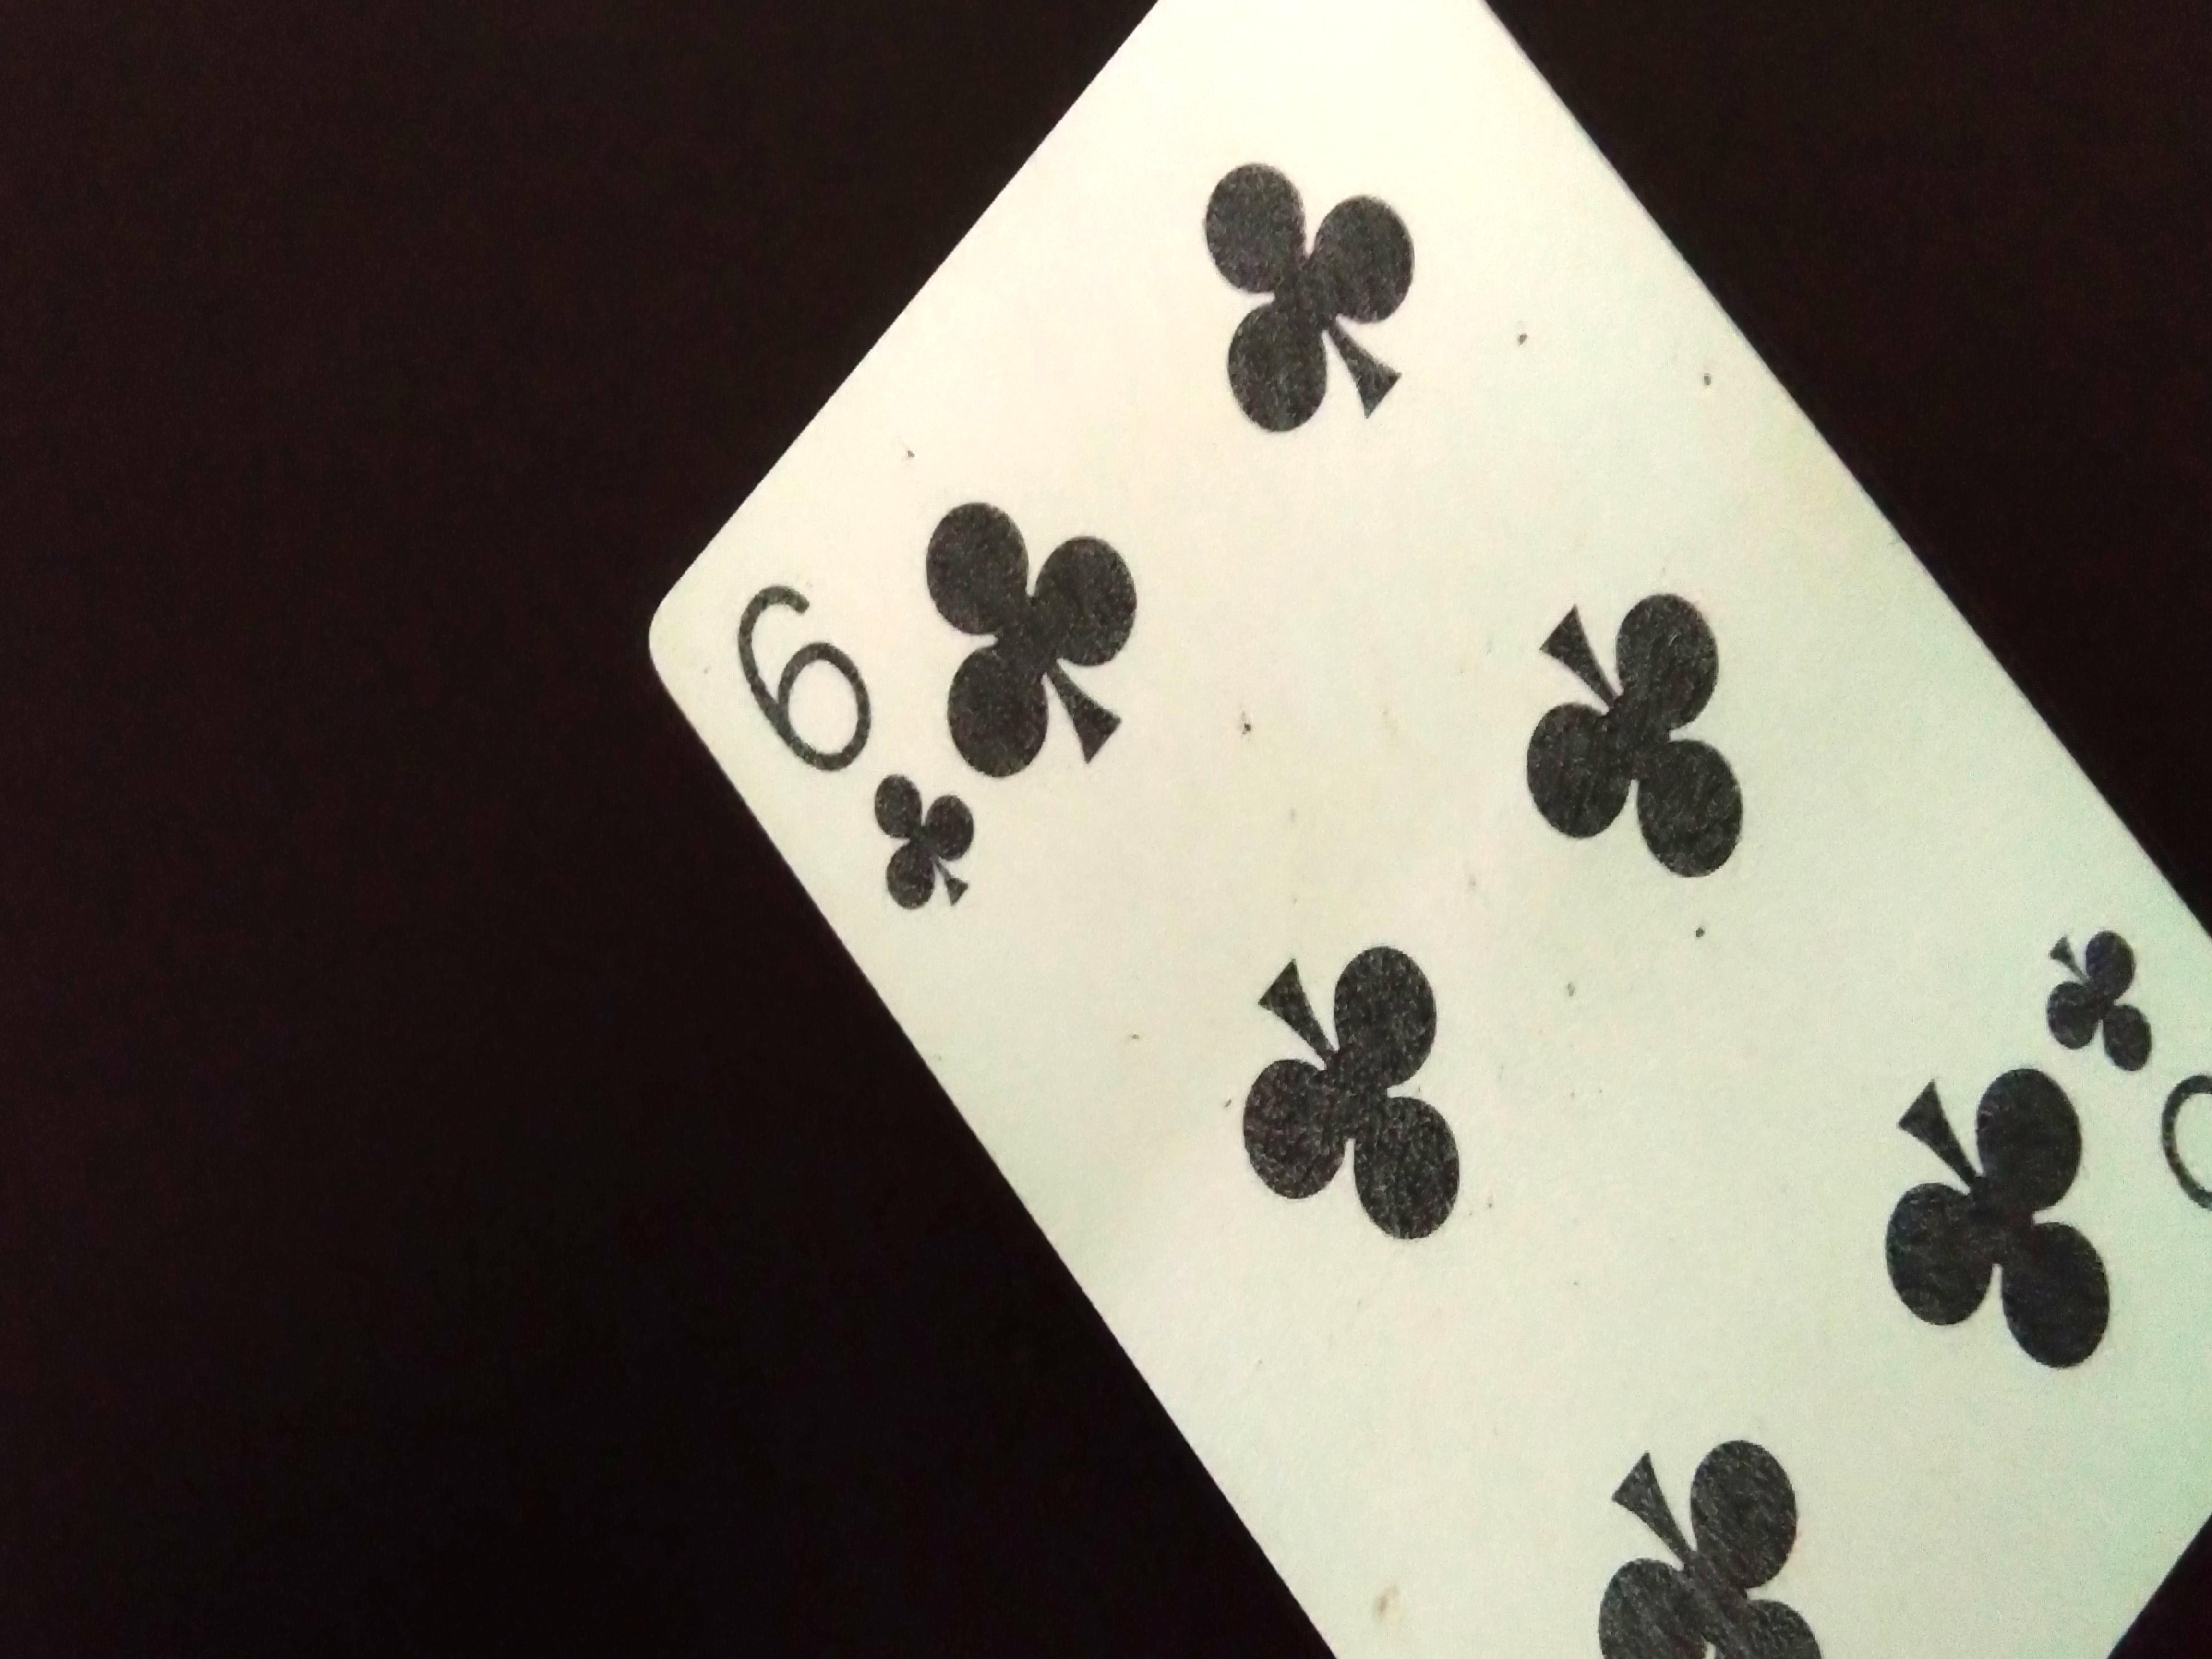6C: (730, 575, 1000, 938)
